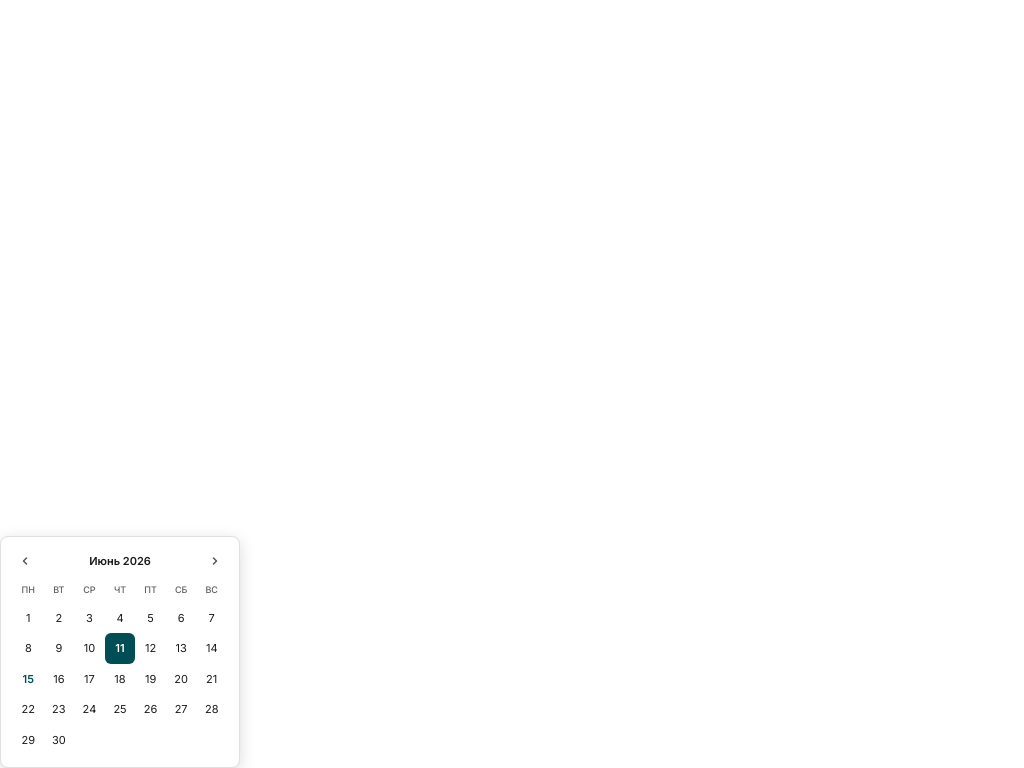
Test: CalendarPopover › navigates to previous month when left arrow clicked
(page scrolled)
Step 1. Click the button named "предыдущий месяц" → (25, 561), box [13,549,37,573]
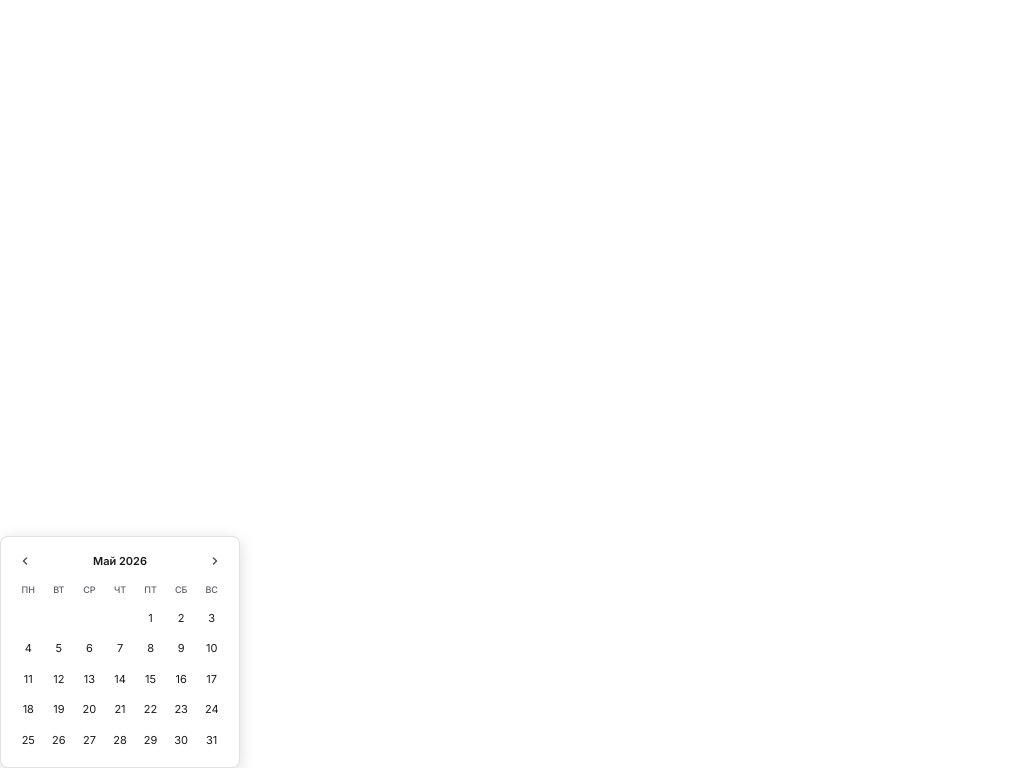
Check: the text "Май 2026" is shown, box [93,553,147,569]
